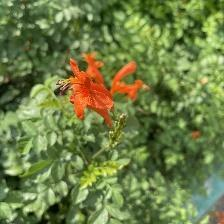honeysuckle: (59, 61, 120, 127)
